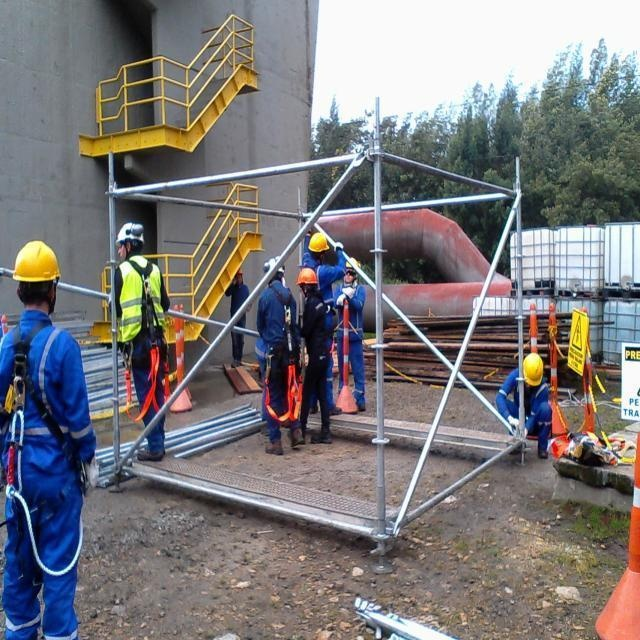Arnes_seguridad: (1, 320, 80, 483), (111, 255, 166, 348), (260, 285, 298, 359)
